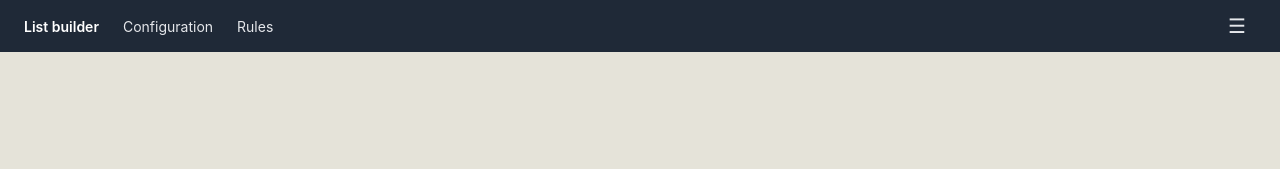
Test: Nav › opens the hamburger menu to reveal dark mode toggle and the Dropship Simulator link
Expected: the link "Dropship Simulator" is not shown
Click the button named "Toggle navigation menu" at (1237, 26), box [1218,12,1256,40]
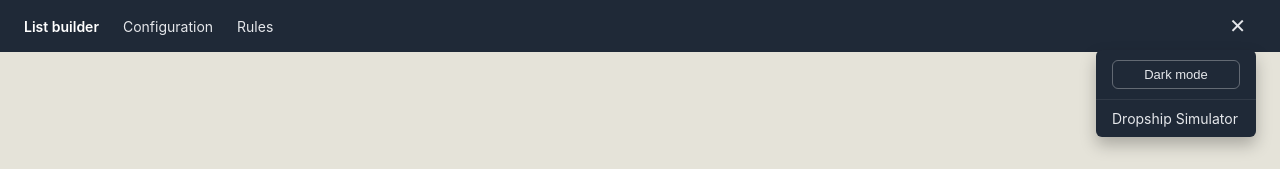
Expected: the link "Dropship Simulator" is shown
Expected: the button with aria-label "Toggle dark mode" is shown, [1112,60,1240,89]
Click the link "Dropship Simulator" at (1176, 118), box [1096,99,1256,137]
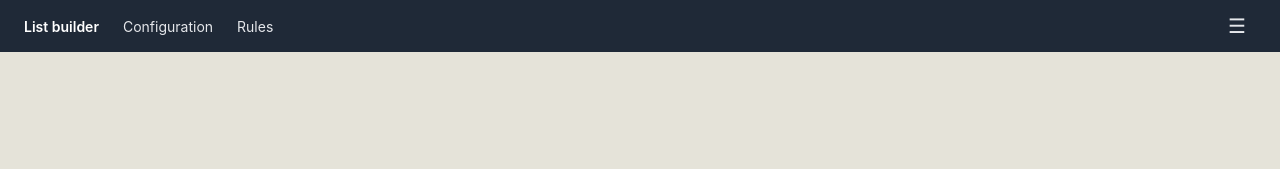
Expected: the link "Dropship Simulator" is gone
